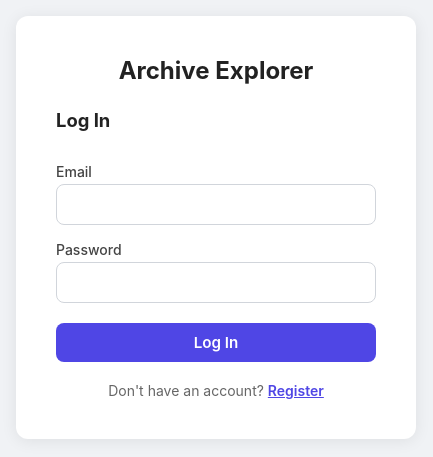
Test: App › can toggle to register form
Click the button "Register" at (296, 390), box top-left (268, 382), bottom-right (324, 398)
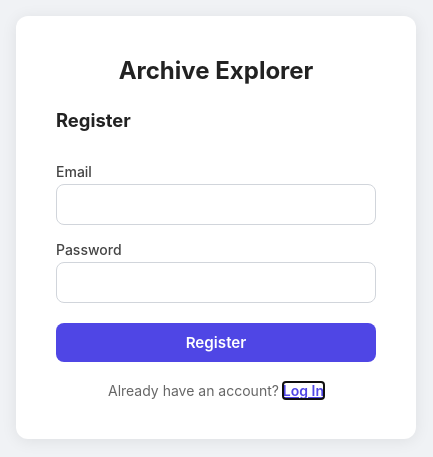
Now the button "Register" is shown, box top-left (56, 322), bottom-right (376, 362)
